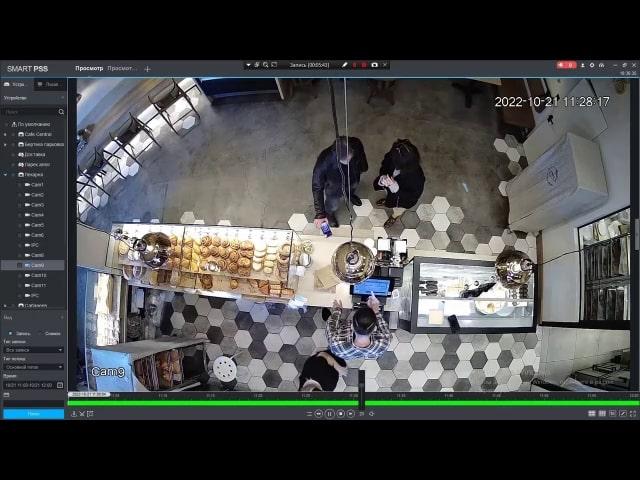barcounter: (102, 222, 540, 322)
pack: (314, 260, 340, 289)
